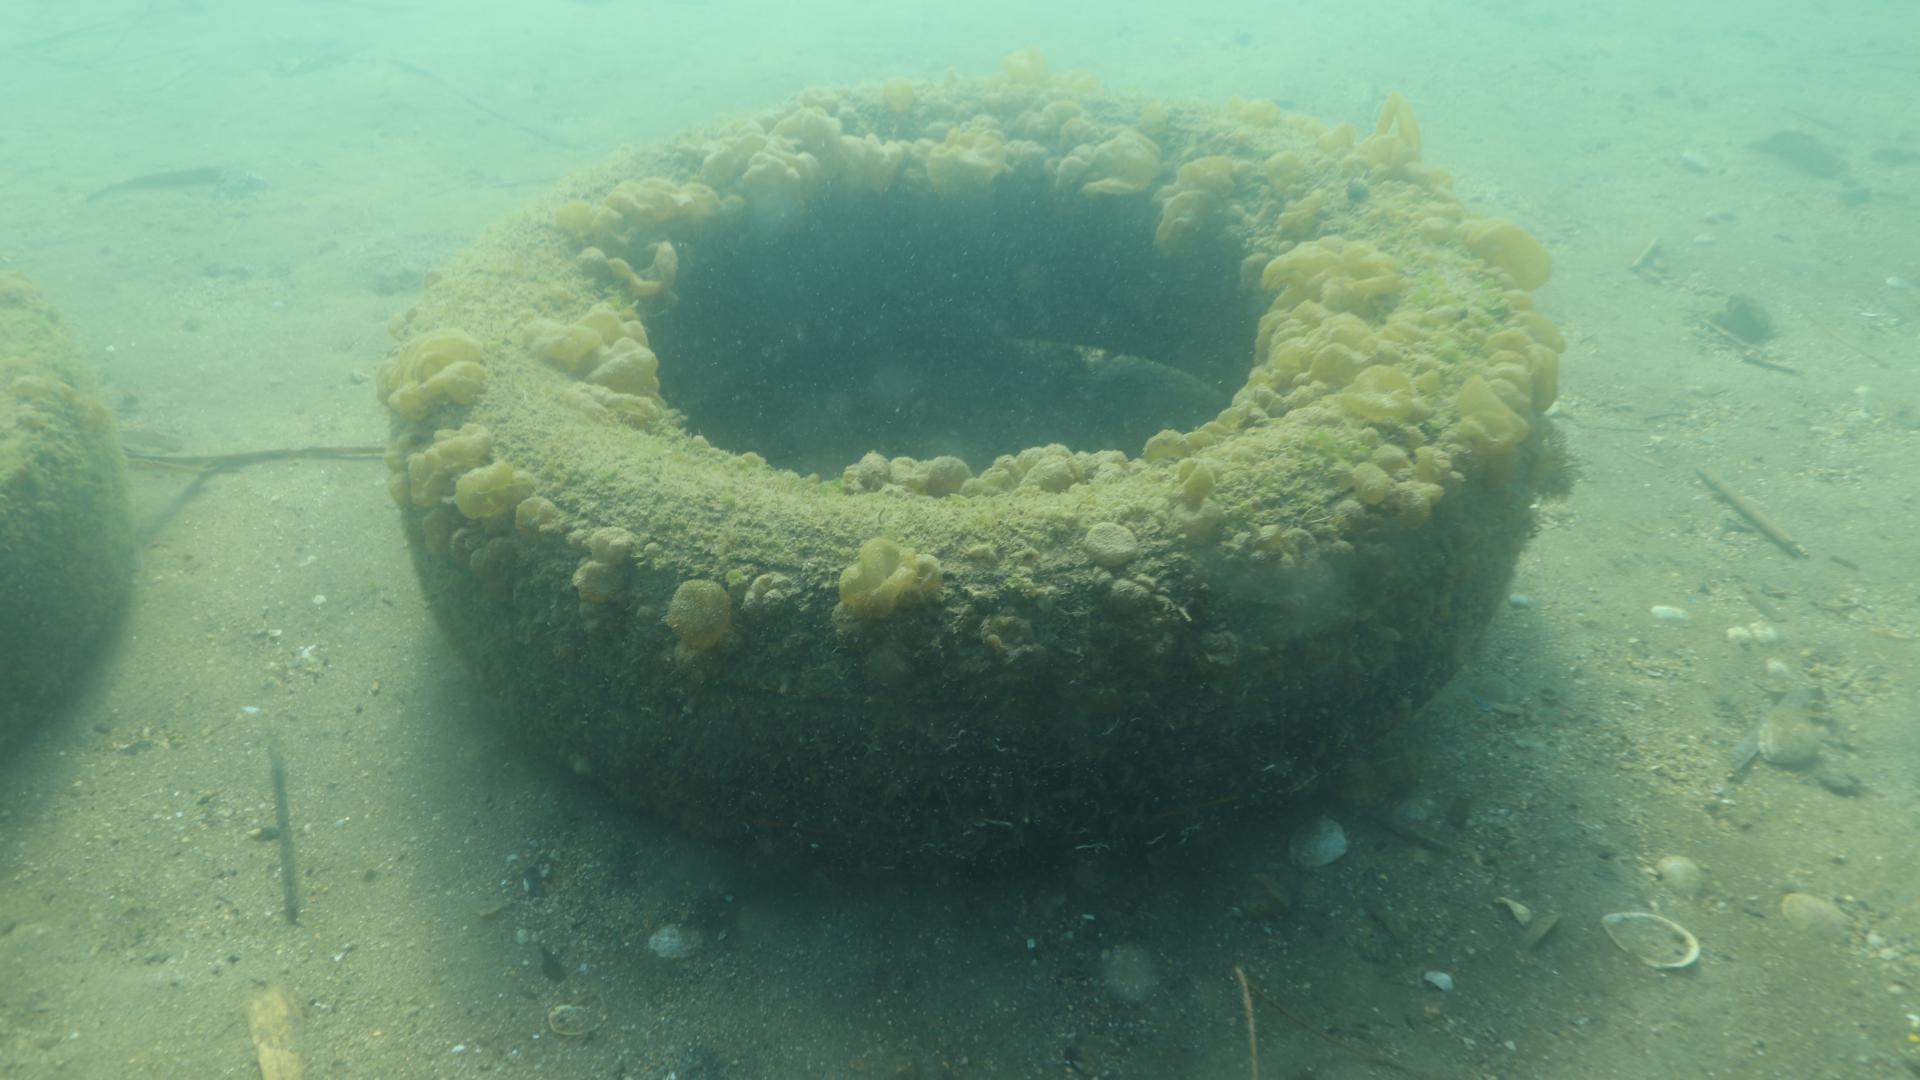tire: (382, 75, 1549, 858)
